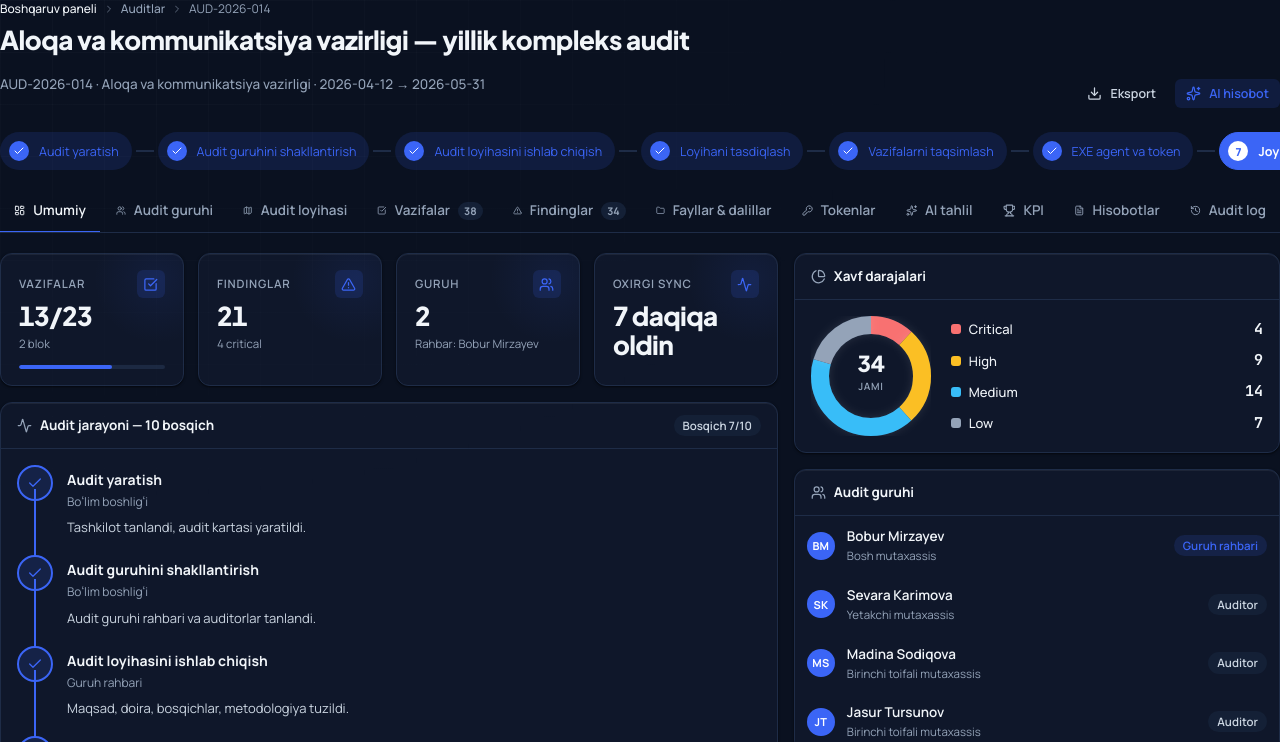
Test: AuditDetailScreen › opens the Project tab with the approval flow
Step 1. Click the tab "Audit loyihasi" → (295, 212), box [229,190,361,233]
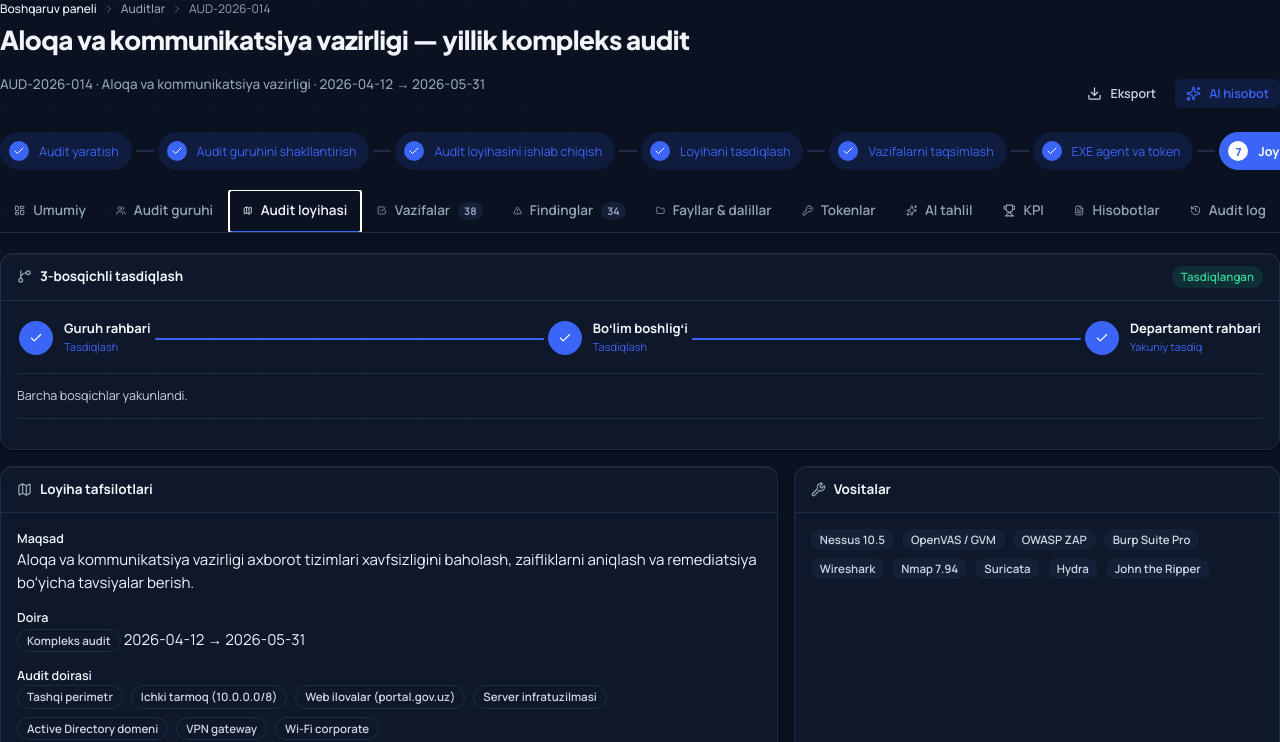
Now the text "3-bosqichli tasdiqlash" is shown, box [40,266,183,287]
